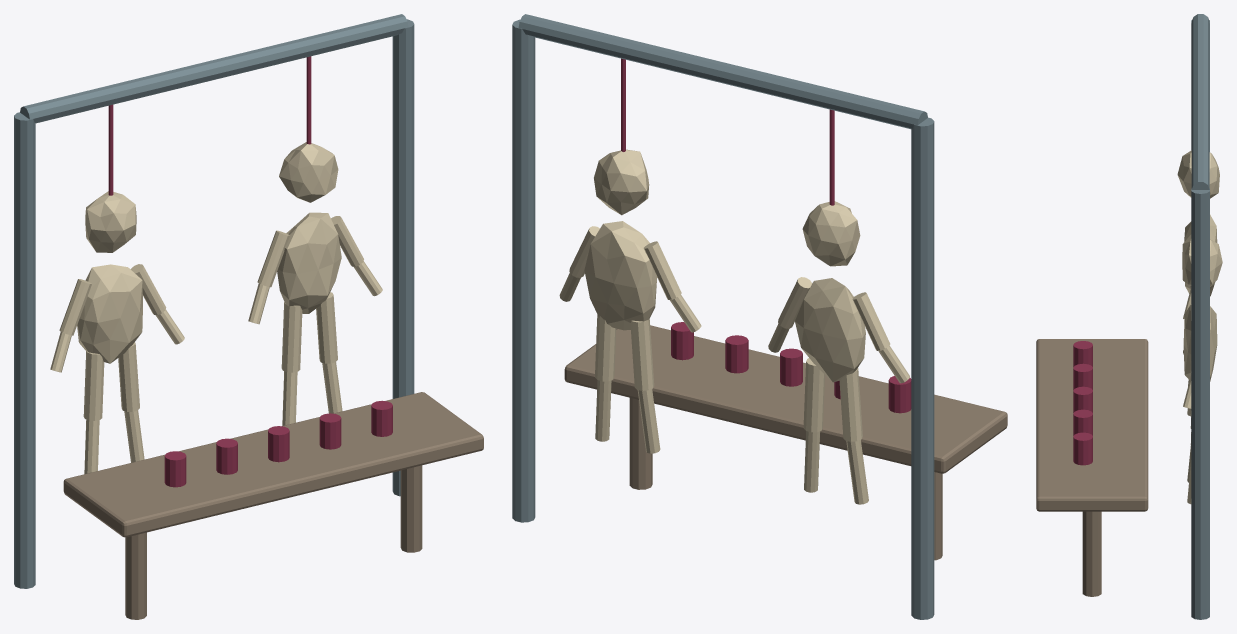
The model's file is a4_doll_station.glb.
3 views of the same model, side by side, from view 1: azimuth 30°, elevation 25°; view 2: azimuth 150°, elevation 25°; view 3: azimuth 270°, elevation 25° (orthographic). The views are drawn at different scales.
Visible parts, largest first — view 1: Body.077; view 2: Body.077; view 3: Body.077.
Part boxes in pixels (x1,y1,x2,y2): Body.077: (14,14,483,619); Body.077: (512,14,1007,619); Body.077: (1036,14,1222,619).
Bounding box in the file's own units: 2.31 × 2.65 × 1.03.
